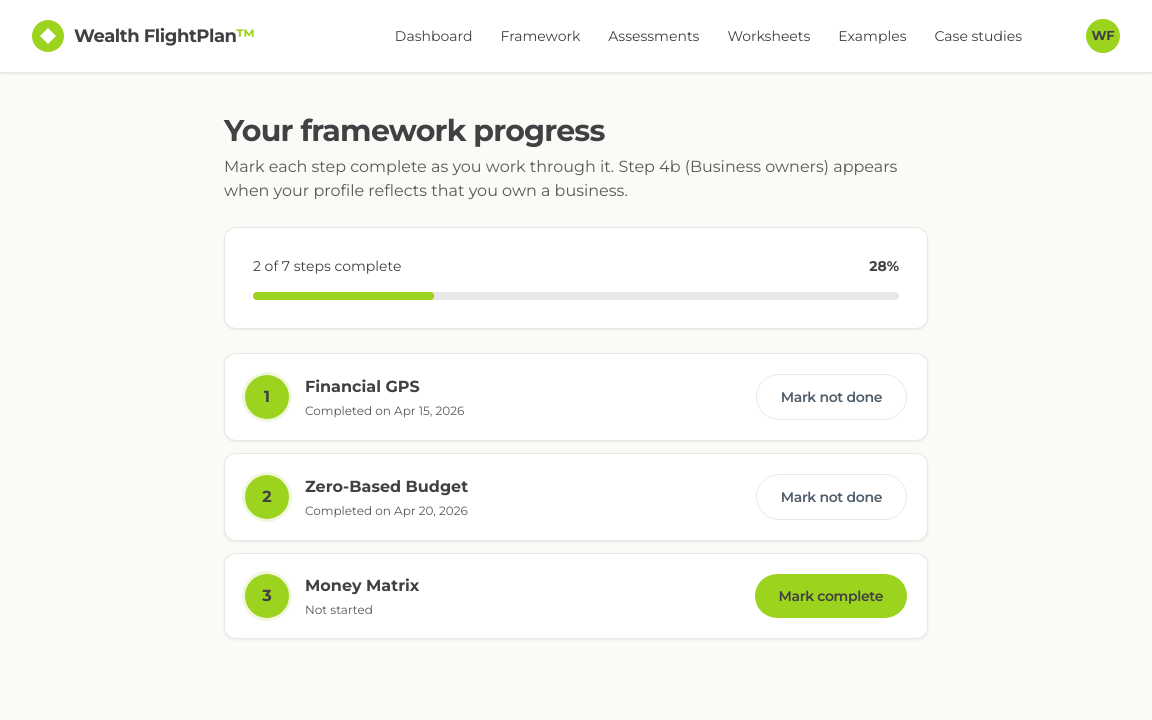
Test case: ProgressPage › optimistically flips a step to complete and persists the server response
This screenshot has width=1152, height=720.
Expected: the link "Money Matrix" is shown, [305, 576, 419, 595]
Click the button with aria-label "mark step 3 complete" at (831, 596), box [755, 574, 907, 618]
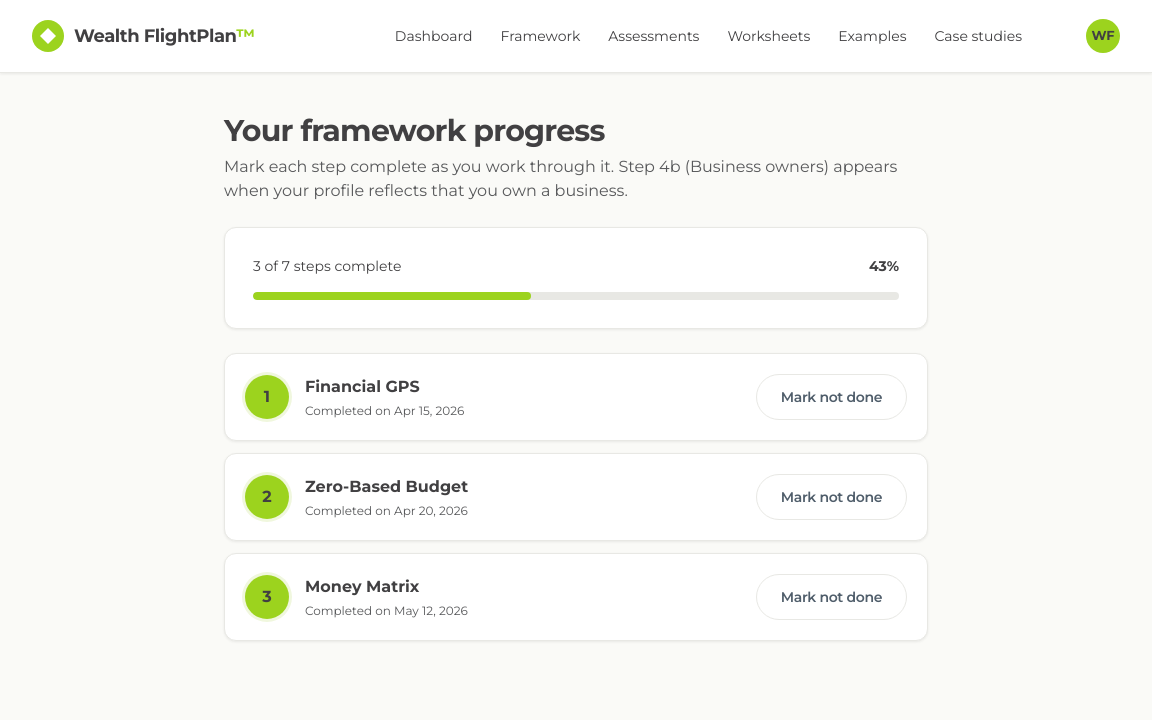
Now the text "43%" is shown, box [869, 256, 899, 276]
